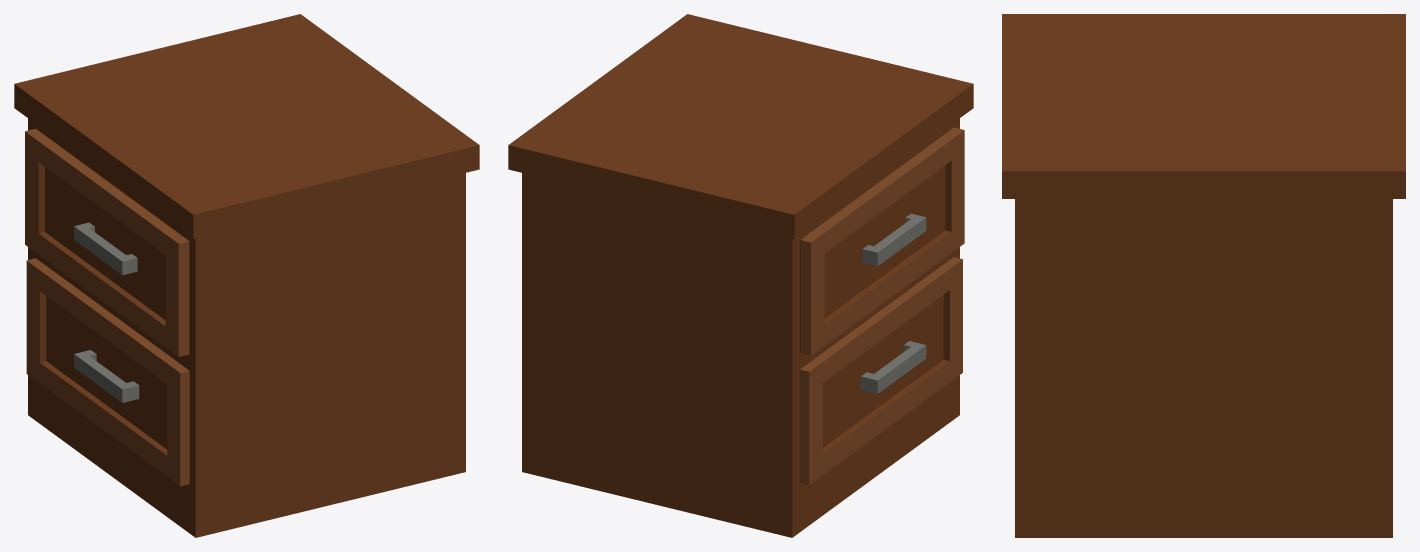
File: BedsideTable.fbx
3 views of the same model, side by side, from view 1: azimuth 30°, elevation 25°; view 2: azimuth 150°, elevation 25°; view 3: azimuth 270°, elevation 25° (orthographic). The views are drawn at different scales.
Parts seen in each view (by area): view 1: Cube.8154; view 2: Cube.8154; view 3: Cube.8154.
Part boxes in pixels (x1,y1,x2,y2): Cube.8154: (14,14,479,537); Cube.8154: (508,14,973,537); Cube.8154: (1002,14,1405,537).
Size of the model in its own units: 90.98 by 96.07 by 94.73.
1 material, 1 textured.
